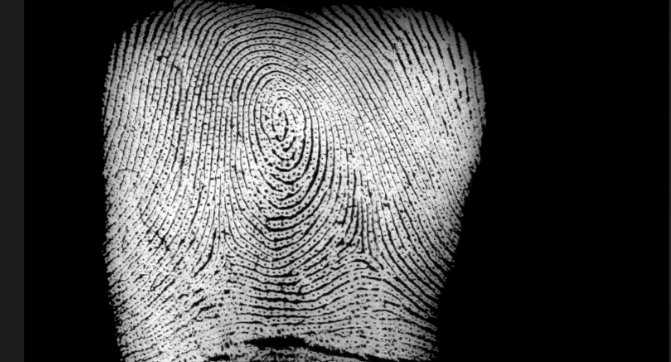nucelo: (267, 97, 293, 142)
verticilo: (350, 241, 374, 268), (213, 239, 234, 259)
